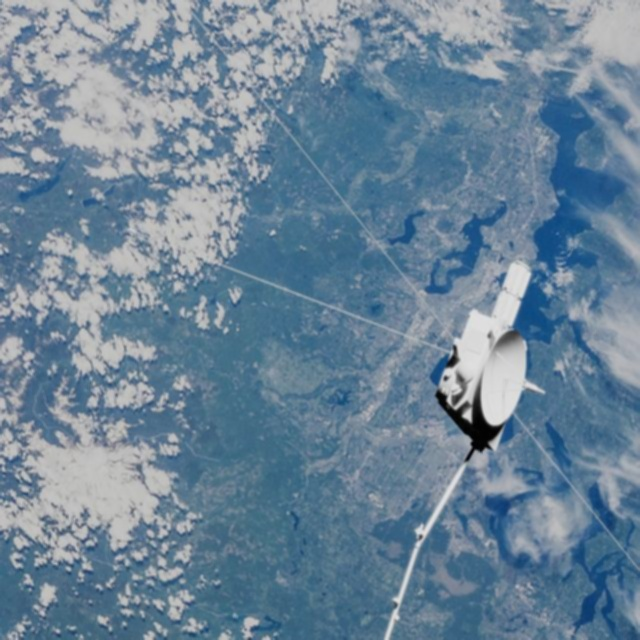satellite: (355, 237, 585, 640)
